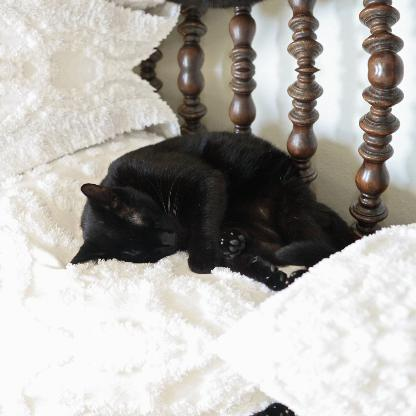Cat: (69, 118, 355, 290)
